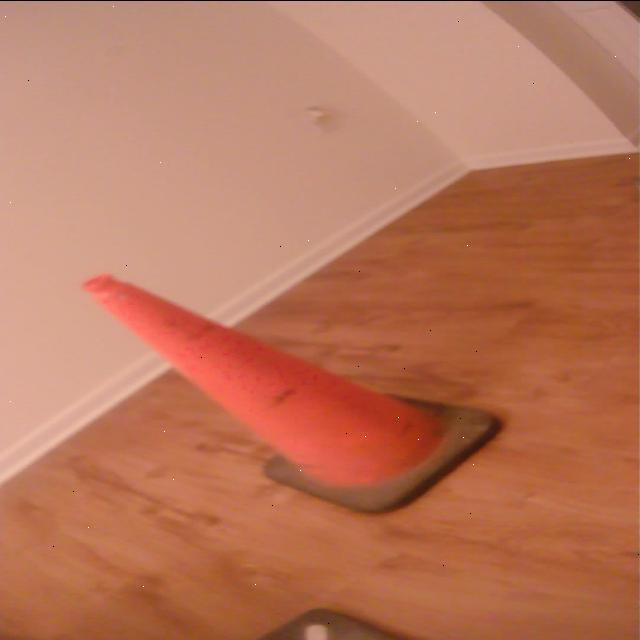traffic cone: (75, 270, 509, 520)
